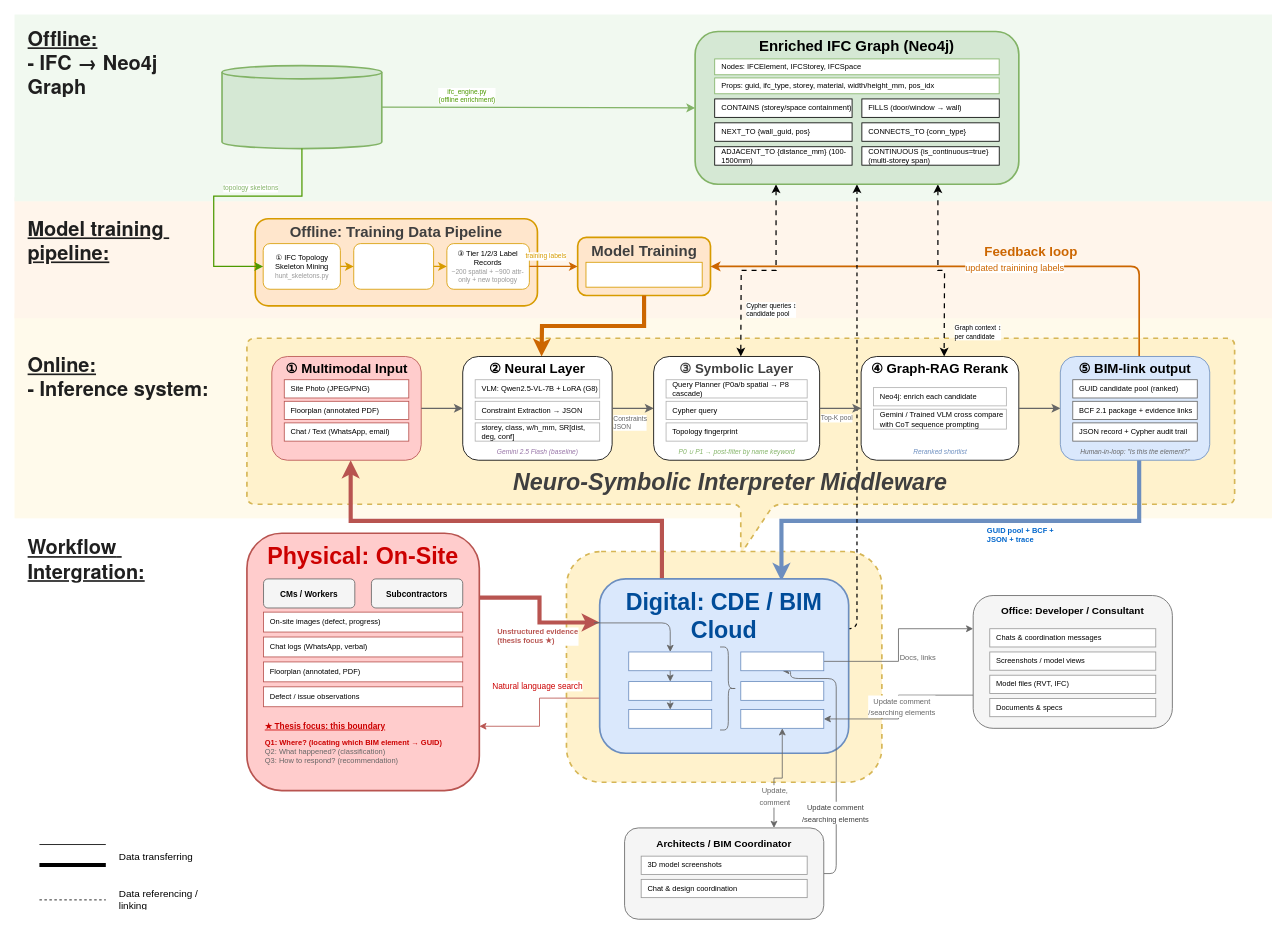
The diagram is 1286 pixels wide and 934 high, and some of its shapes have lost their labels. Here are the shapes that lost their labels. From the top down, the centre of each, then its label:
(x=301, y=106): Project Raw IFC File (ifcopenshell)
(x=393, y=266): ② Skin Generation Gemini renders + LLM-as-Judge
(x=643, y=274): Inject: target_width/height_mm connection_degree, conf, dist
(x=670, y=661): GUID (Location)
(x=782, y=661): IFC Repository
(x=670, y=690): Status (BIM notes)
(x=782, y=690): Submission Portal
(x=670, y=718): How (Procedure)
(x=782, y=718): Issue Tracker (BCF)
